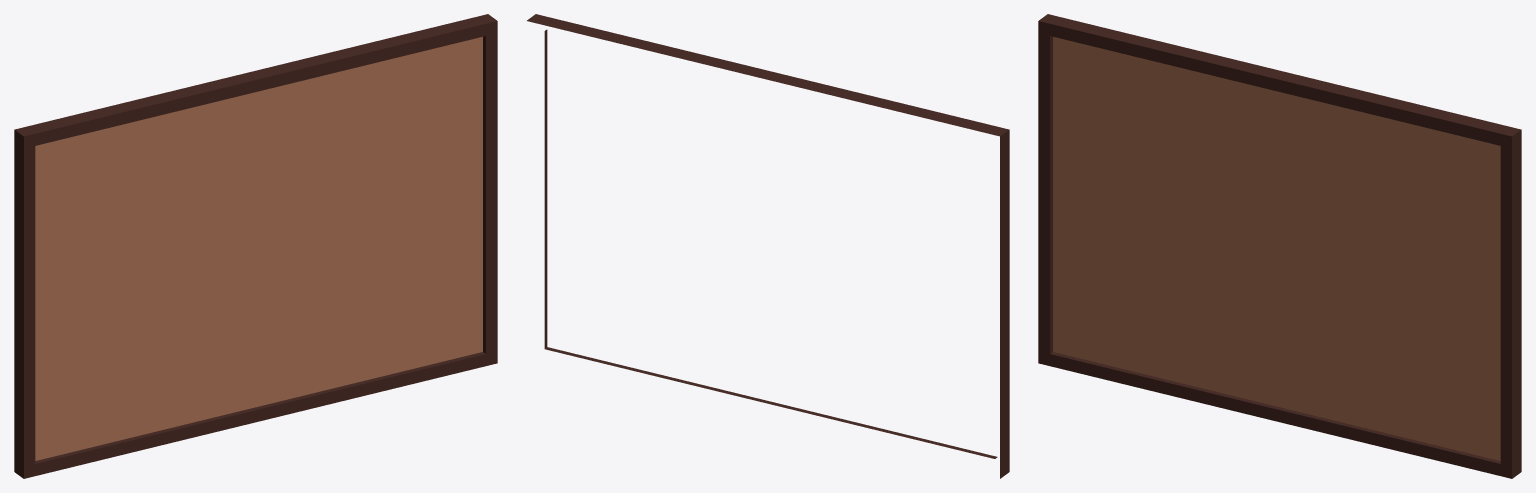
File: Corkboard.glb
The picture shows the model from 3 angles, left to right: view 1: azimuth 30°, elevation 25°; view 2: azimuth 150°, elevation 25°; view 3: azimuth 330°, elevation 25°; orthographic projection.
Visible parts, largest first — view 1: Wall_corkboard_with_post_it_notes; view 2: Wall_corkboard_with_post_it_notes; view 3: Wall_corkboard_with_post_it_notes.
Part boxes in pixels (x1,y1,x2,y2): Wall_corkboard_with_post_it_notes: (14,14,497,478); Wall_corkboard_with_post_it_notes: (527,14,1009,478); Wall_corkboard_with_post_it_notes: (1038,14,1521,478).
Size of the model in its own units: 0.7626 by 0.5266 by 0.0265.
1 material, 1 textured.
